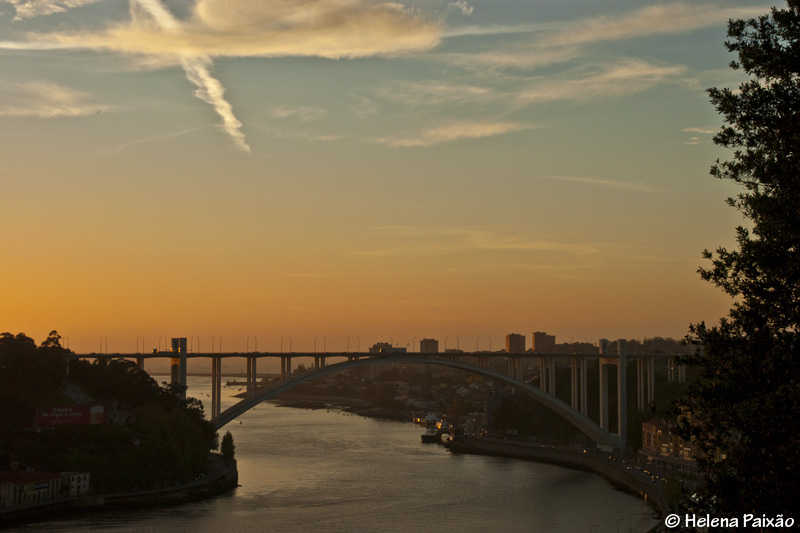arrabida: (70, 336, 710, 464)
